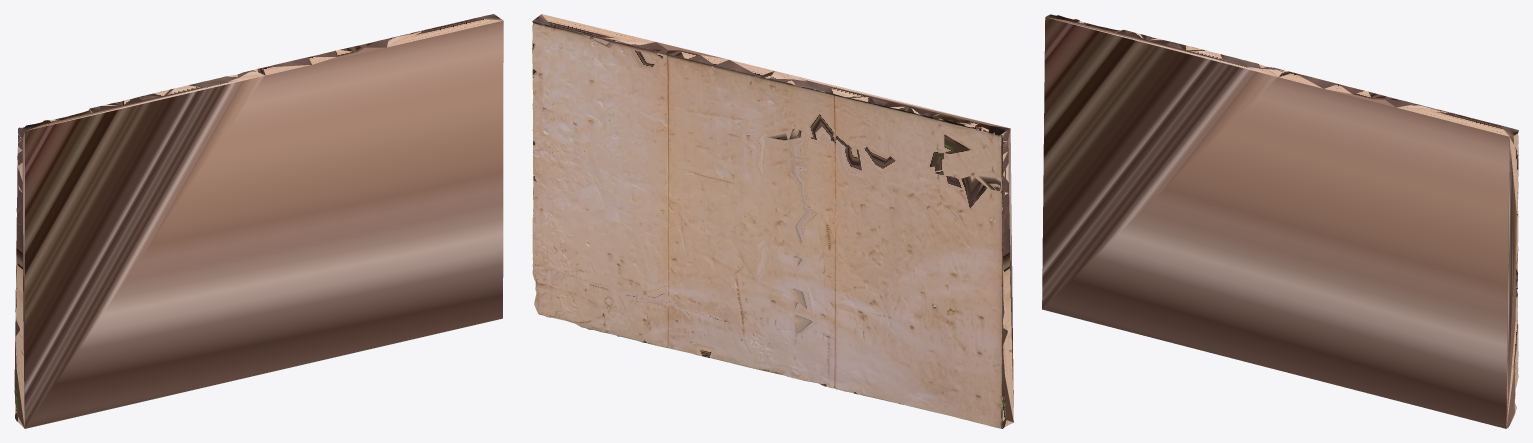
Rendered from notice_board_foam.glb.
3 renders of one model, left to right at view 1: azimuth 30°, elevation 25°; view 2: azimuth 150°, elevation 25°; view 3: azimuth 330°, elevation 25°, orthographic.
Visible parts, largest first — view 1: foam-notice_Model; view 2: foam-notice_Model; view 3: foam-notice_Model.
Boxes of the visible parts, <box> form: foam-notice_Model: <box>14,14,503,428</box>; foam-notice_Model: <box>532,14,1013,428</box>; foam-notice_Model: <box>1042,14,1518,428</box>.
Size of the model in its own units: 1.44 by 0.864 by 0.0741.
1 material, 1 textured.
